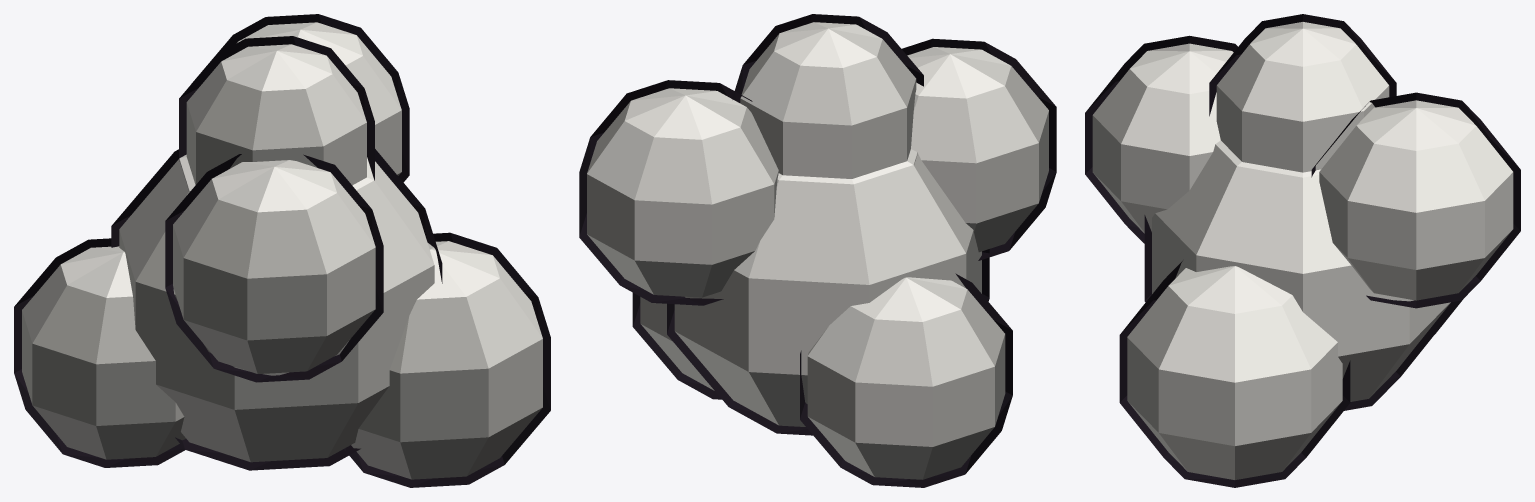
Rendered from Gag_Poof.glb.
The picture shows the model from 3 angles, left to right: view 1: azimuth 30°, elevation 25°; view 2: azimuth 150°, elevation 25°; view 3: azimuth 270°, elevation 25°; orthographic projection. The views are drawn at different scales.
Visible parts, largest first — view 1: Gag_Poof; view 2: Gag_Poof; view 3: Gag_Poof.
Boxes of the visible parts, bbox=[...] form: Gag_Poof: bbox=[14, 14, 550, 487]; Gag_Poof: bbox=[579, 14, 1056, 487]; Gag_Poof: bbox=[1085, 14, 1520, 487].
Bounding box in the file's own units: 41.4 × 39.4 × 38.45.
Materials: 1 (1 with a texture image).
